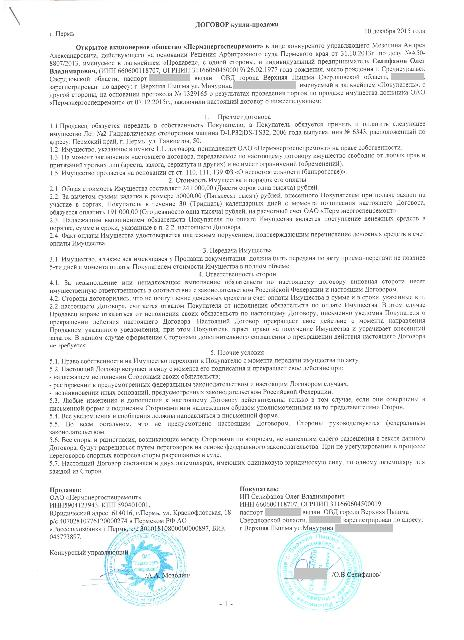stamp: (279, 530, 363, 614), (103, 530, 186, 606)
